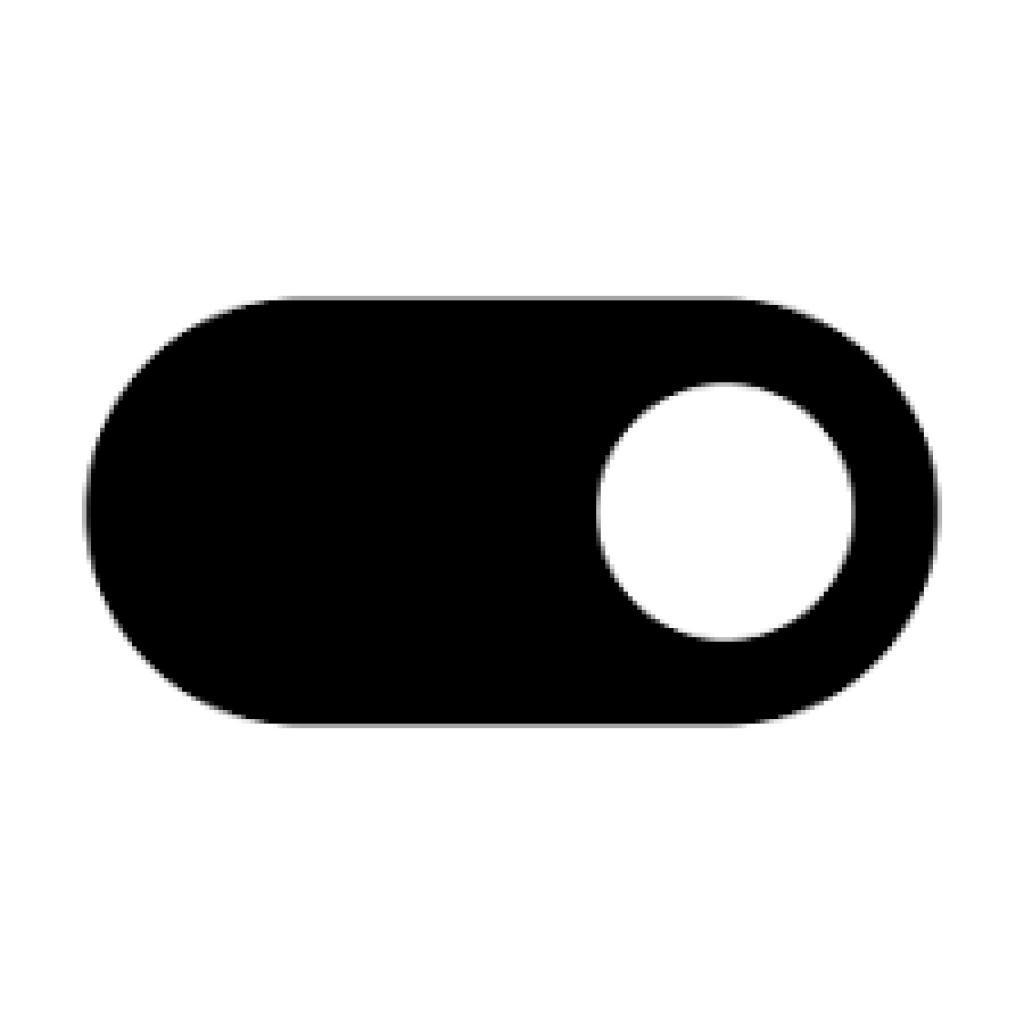switch: (81, 299, 943, 724)
